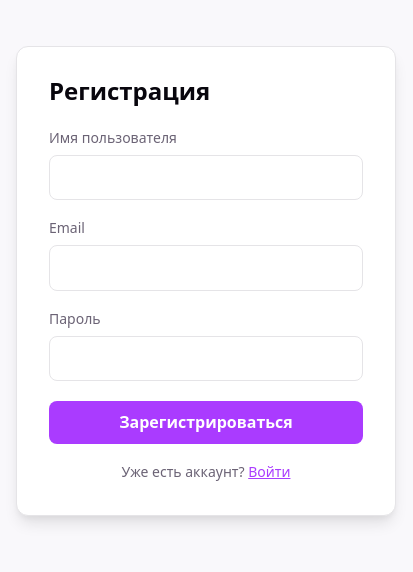
it: Register page › shows the server error message on failure
Type "carol" into the field labelled "Имя пользователя" at (206, 178), box [49,155,363,200]
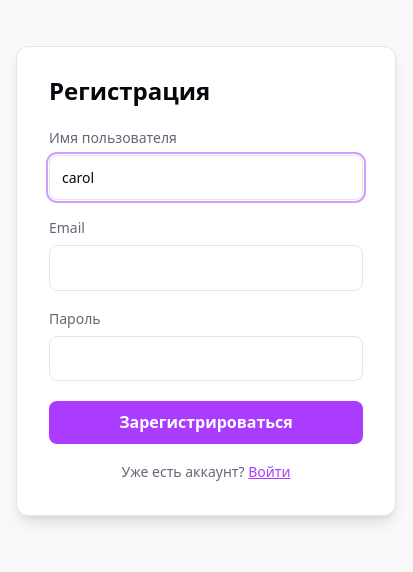
Type "carol@example.com" into the field labelled "Email" at (206, 268), box [49,245,363,291]
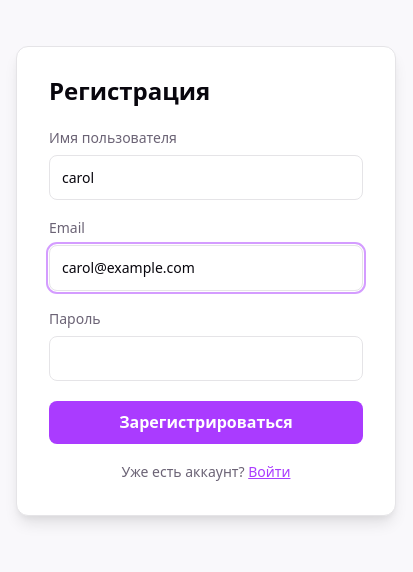
Type "password123" into the password field labelled "Пароль" at (206, 358), box [49,336,363,381]
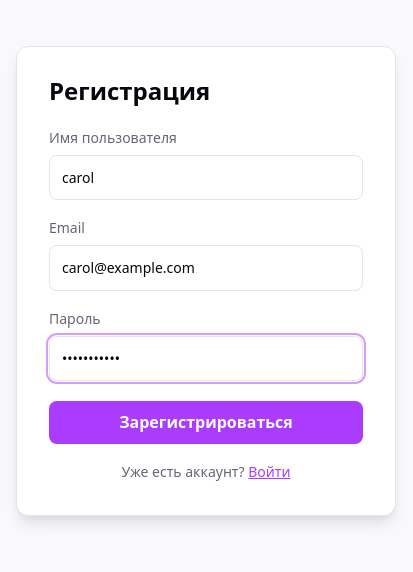
Click the button "Зарегистрироваться" at (206, 423), box [49,401,363,444]
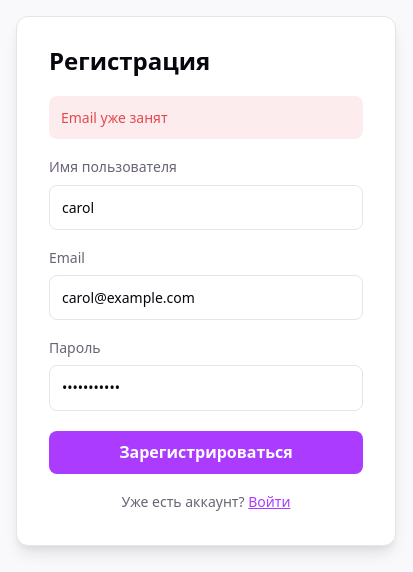
Expected: the text "Email уже занят" is shown, [49,96,363,139]
